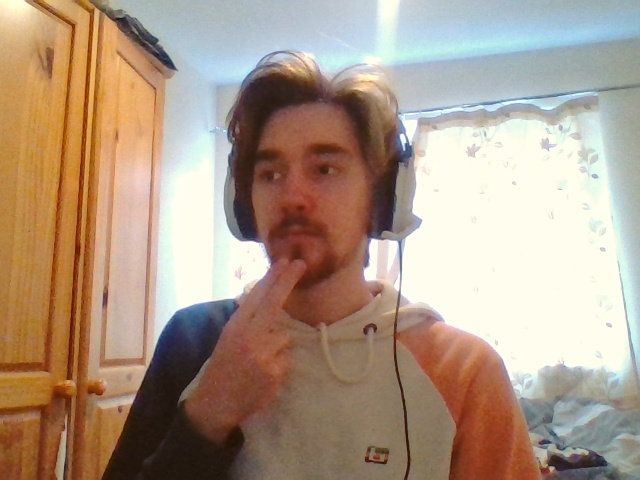afternoon: (208, 258, 307, 416)
